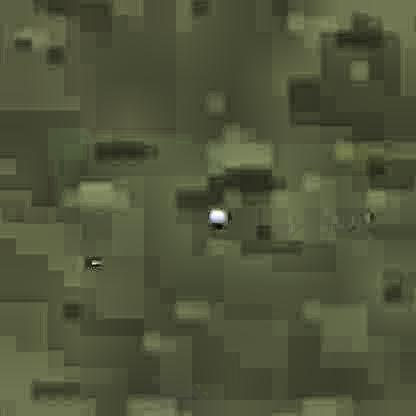golfball: (206, 206, 223, 226)
